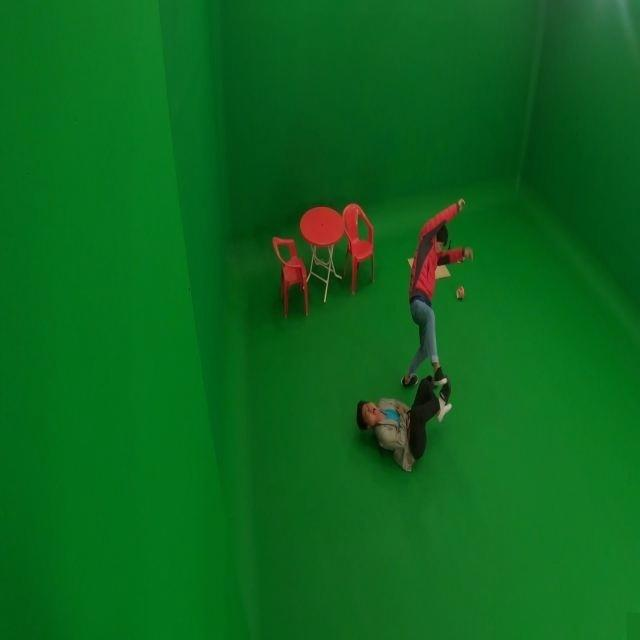fight: (351, 191, 474, 474)
